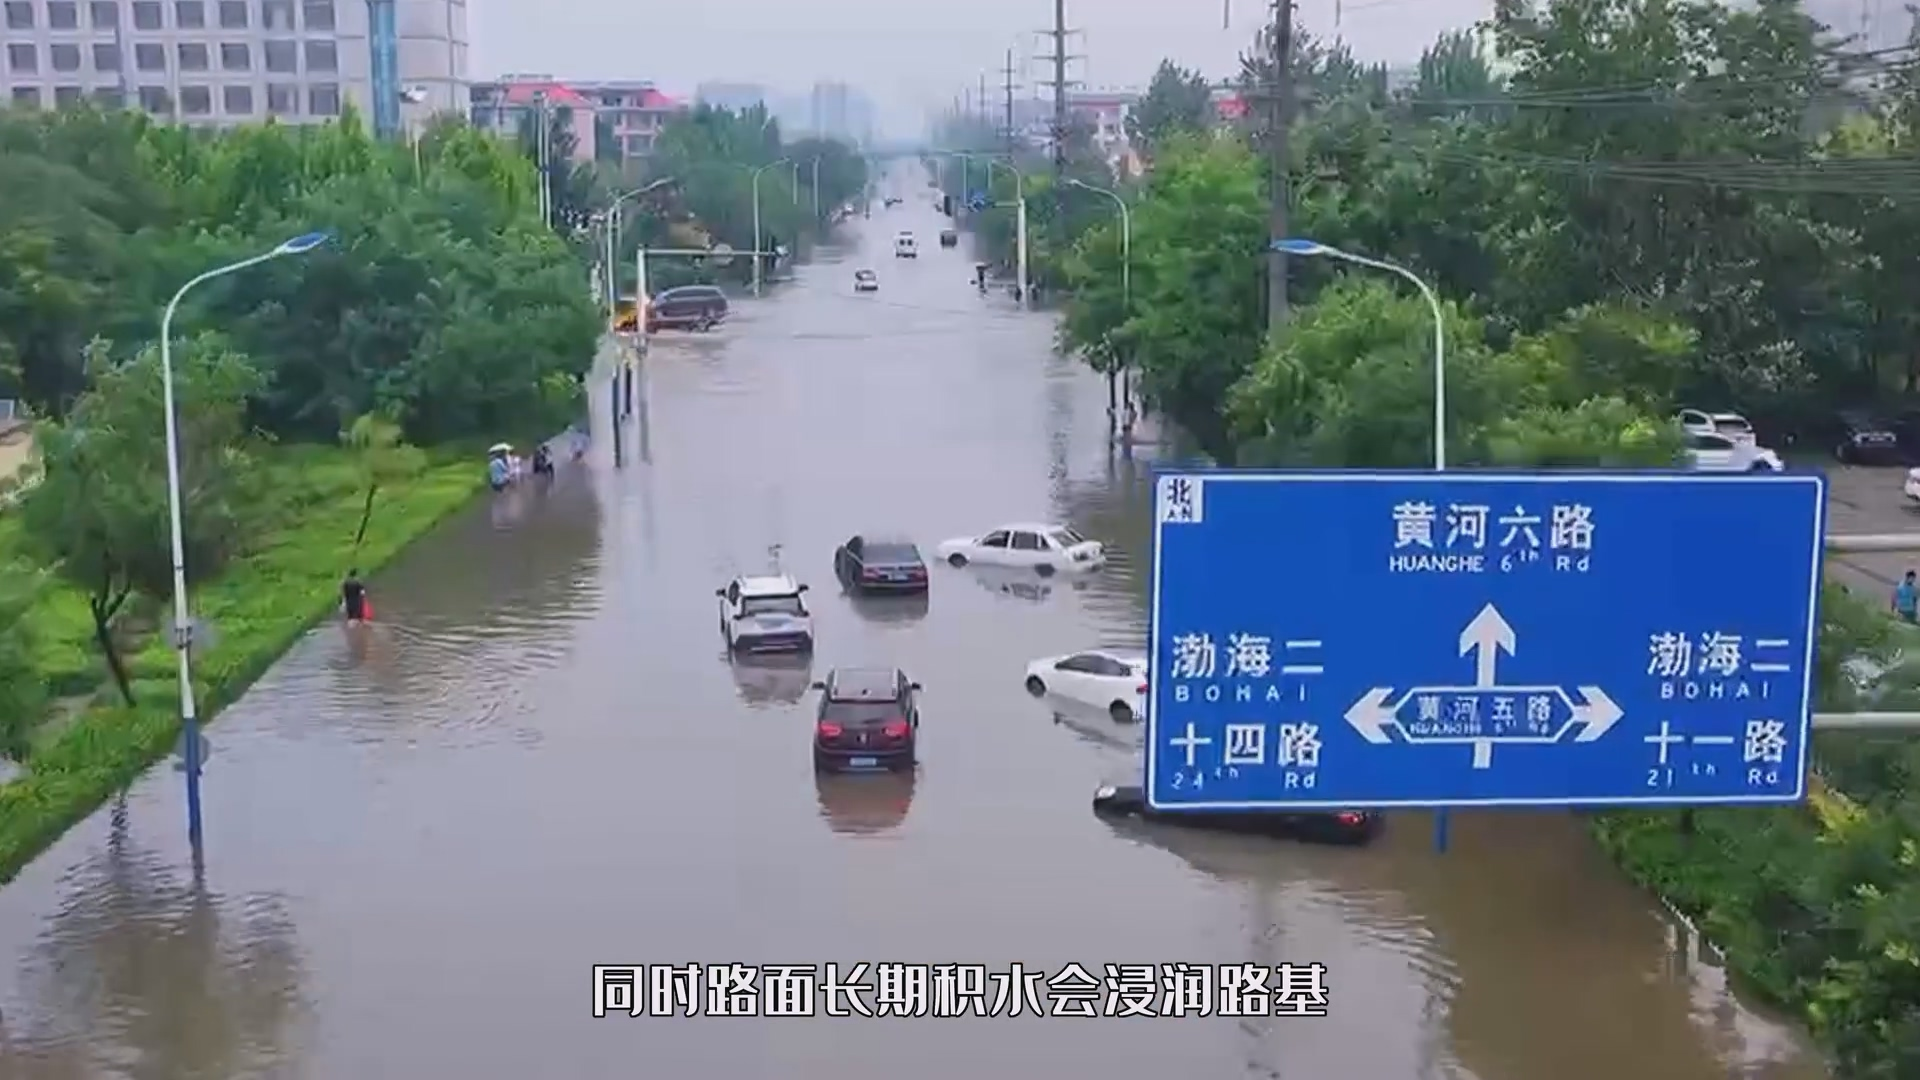puddle: (69, 819, 1679, 1080), (276, 419, 1156, 825)
